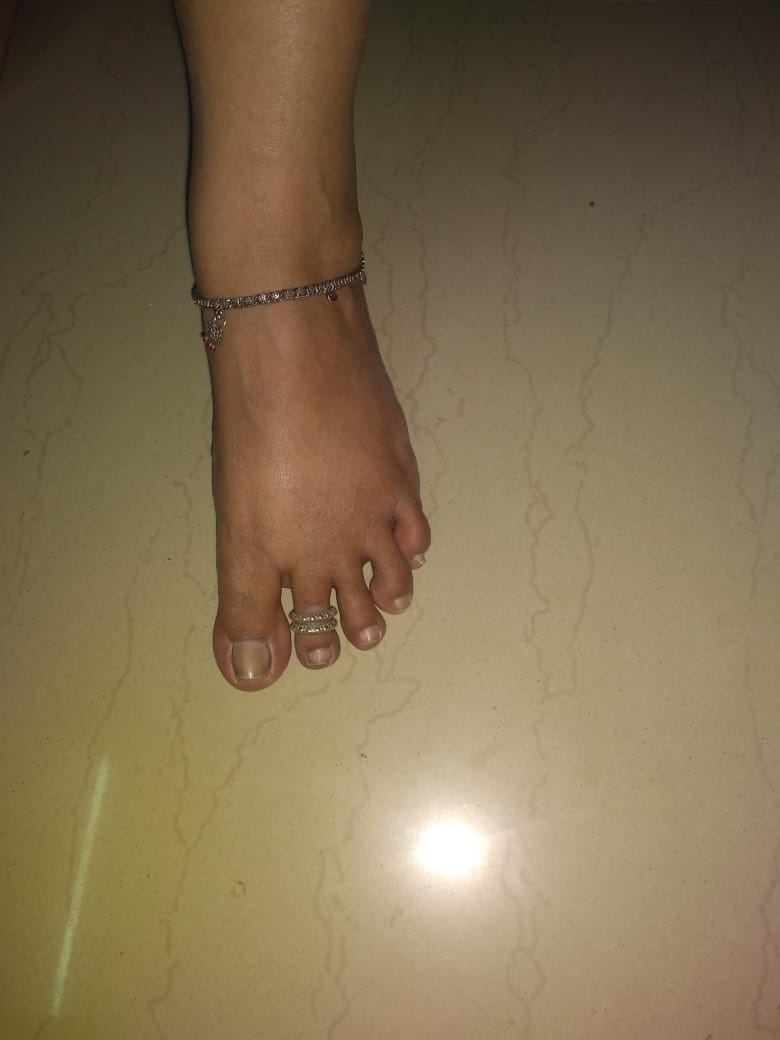feet: (119, 121, 437, 701)
